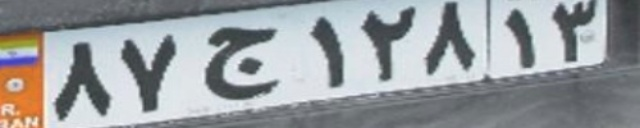1: (309, 16, 345, 86), (500, 8, 533, 67)
2: (361, 6, 413, 81)
3: (554, 0, 596, 62)
7: (120, 34, 177, 112)
8: (53, 40, 110, 118), (425, 1, 474, 73)
jim: (204, 26, 279, 98)
